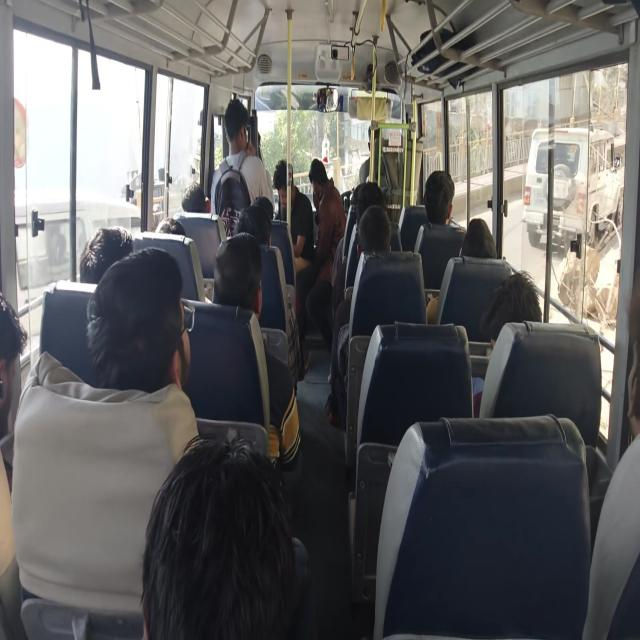person: (143, 423, 393, 640), (101, 254, 180, 376), (0, 305, 64, 405), (591, 302, 640, 432), (491, 266, 533, 351), (79, 210, 131, 262), (207, 238, 253, 291), (359, 212, 391, 264), (310, 150, 338, 209), (232, 90, 258, 152), (271, 161, 302, 213), (180, 169, 214, 212), (465, 218, 503, 256), (236, 194, 269, 237), (425, 169, 454, 214), (156, 209, 188, 245), (354, 172, 386, 200), (250, 180, 275, 207)
